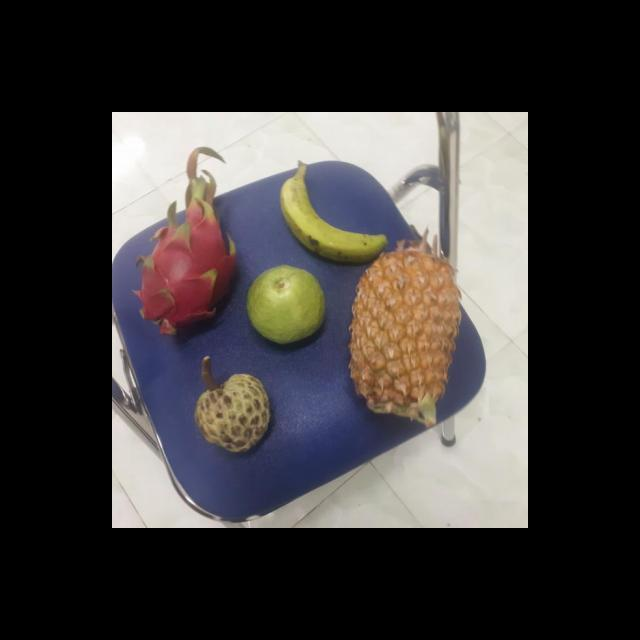Sakya fruit: (195, 372, 277, 454)
banana: (280, 163, 393, 266)
guava: (247, 266, 331, 344)
pineapple: (347, 250, 471, 420)
pitaya: (140, 209, 243, 336)
